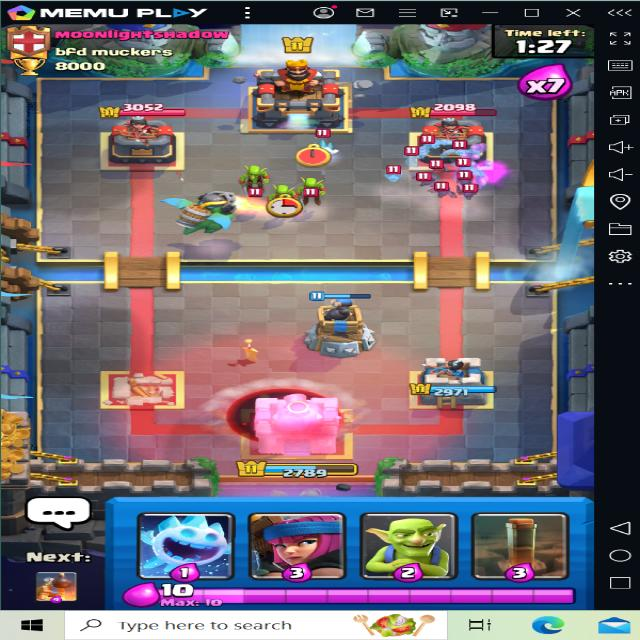Bat: (413, 167, 441, 190), (458, 180, 489, 200), (429, 182, 463, 200)
Goblin: (232, 160, 266, 197), (268, 179, 299, 219), (293, 174, 328, 207)
Icespirit: (311, 131, 348, 163)
Void: (210, 376, 360, 446)
